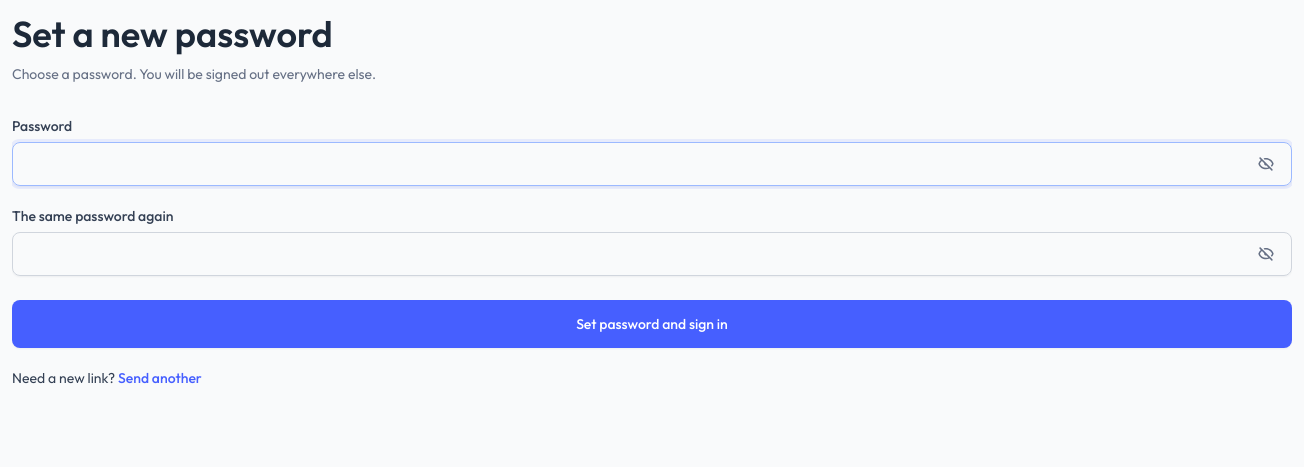
Test: forgot and reset password (P1-089) › says an expired or used link needs a new one
Type "a-good-password" into the password field labelled "Password" at (652,164), box [12,142,1292,186]
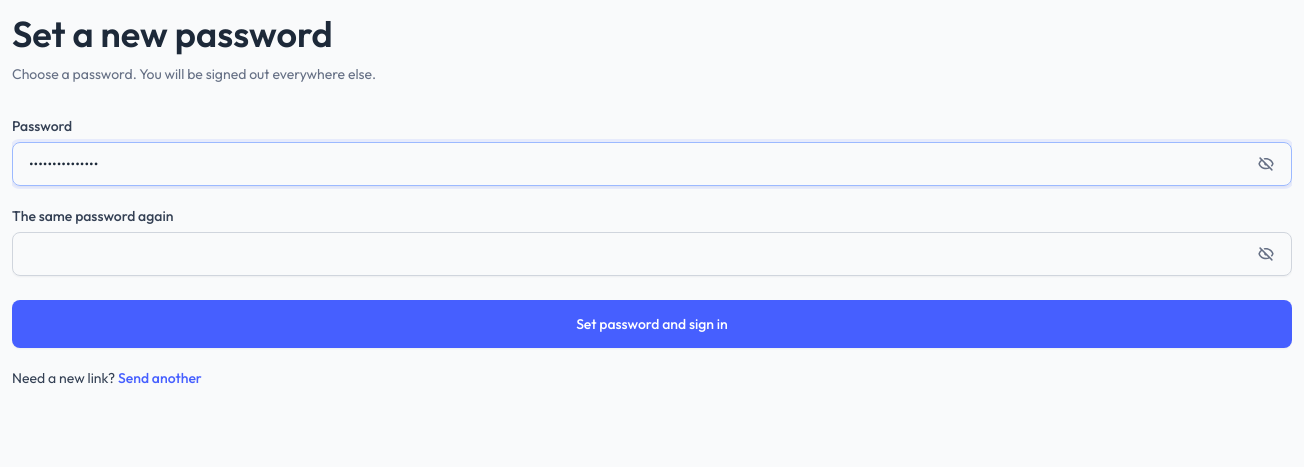
Type "a-good-password" into the password field labelled "The same password again" at (652,254), box [12,232,1292,276]
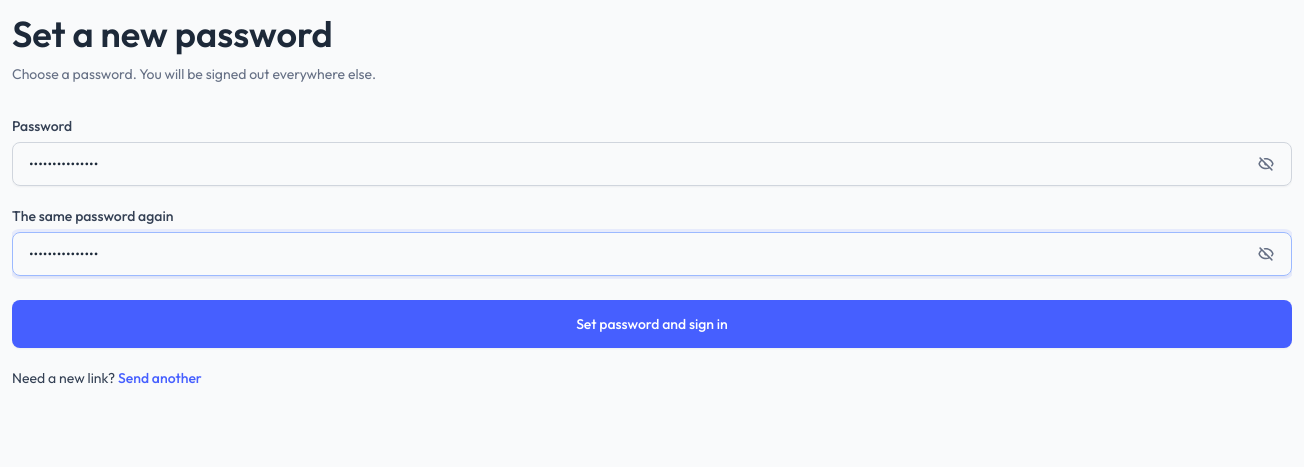
Click the button "Set password and sign in" at (652,324), box [12,300,1292,348]
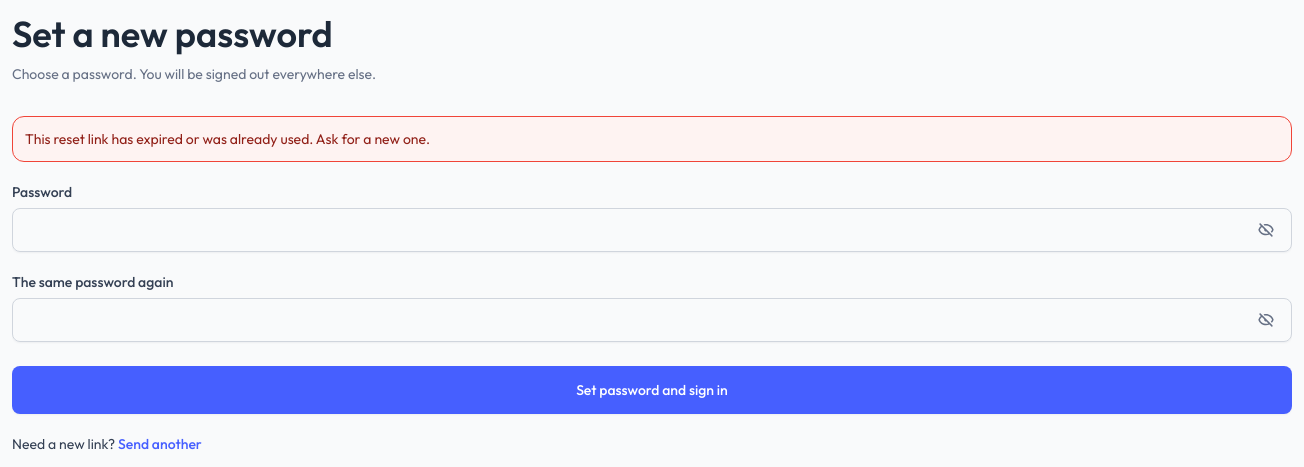
Expected: the message shows "Ask for a new one", [25,130,430,148]
